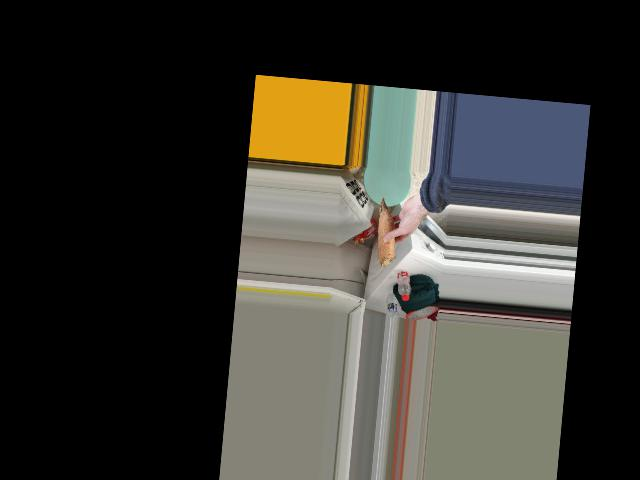sweet_potato: (375, 198, 399, 262)
